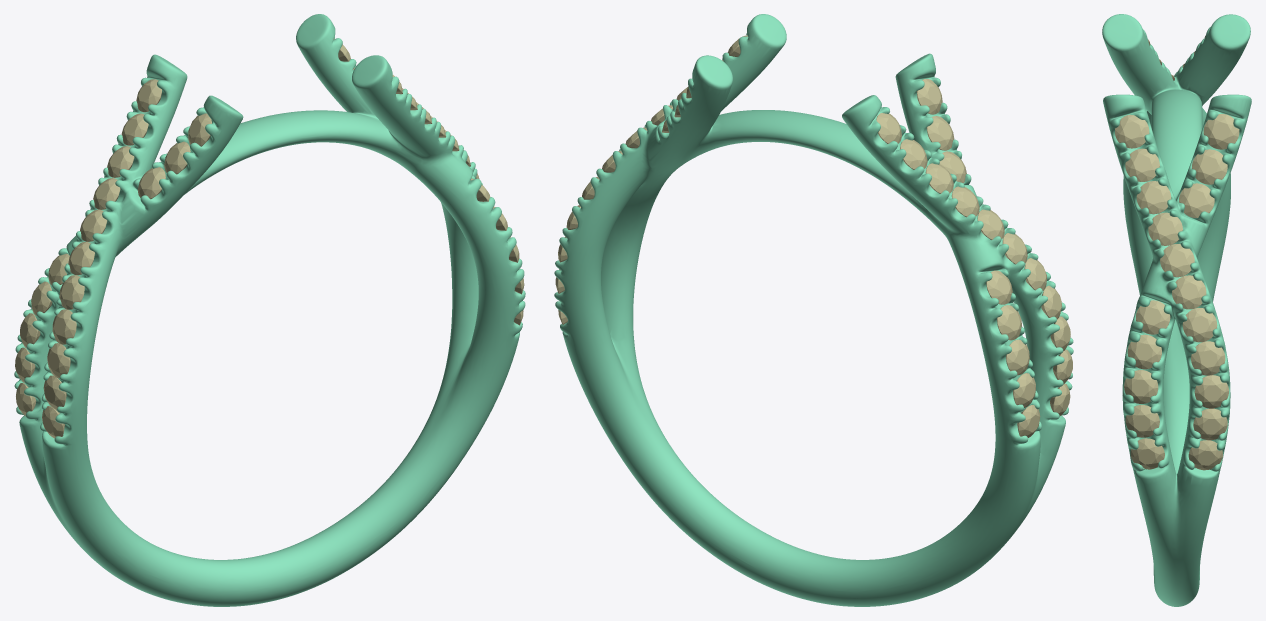
3 renders of one model, left to right at view 1: azimuth 30°, elevation 25°; view 2: azimuth 150°, elevation 25°; view 3: azimuth 270°, elevation 25°, orthographic. The views are drawn at different scales.
Visible parts, largest first — view 1: Metal02; view 2: Metal02; view 3: Metal02, Diamond_Gem.017, Diamond_Gem.016, Diamond_Gem.018, Diamond_Gem.006, Diamond_Gem.007, Diamond_Gem.005, Diamond_Gem, Diamond_Gem.008, Diamond_Gem.004, Diamond_Gem.001, Diamond_Gem.002 (+8 smaller).
Part boxes in pixels (box(x1,y1,x2,y2)): Metal02: box(14, 14, 525, 606); Metal02: box(554, 14, 1073, 606); Metal02: box(1102, 14, 1251, 606); Diamond_Gem.017: box(1192, 149, 1227, 184); Diamond_Gem.016: box(1203, 114, 1239, 149); Diamond_Gem.018: box(1179, 183, 1214, 217); Diamond_Gem.006: box(1182, 308, 1217, 342); Diamond_Gem.007: box(1191, 341, 1225, 375); Diamond_Gem.005: box(1172, 275, 1206, 309); Diamond_Gem: box(1115, 114, 1149, 148); Diamond_Gem.008: box(1194, 375, 1228, 408); Diamond_Gem.004: box(1160, 244, 1194, 277); Diamond_Gem.001: box(1125, 148, 1159, 181); Diamond_Gem.002: box(1136, 181, 1171, 214).
Size of the model in its own units: 21 by 22.79 by 5.86.
